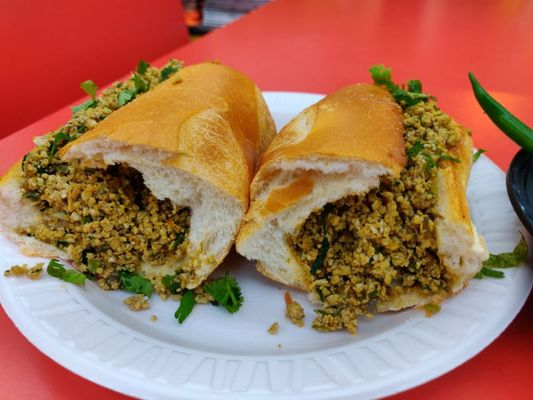burger: (469, 71, 533, 267)
soup: (234, 68, 489, 335), (1, 59, 278, 303)
